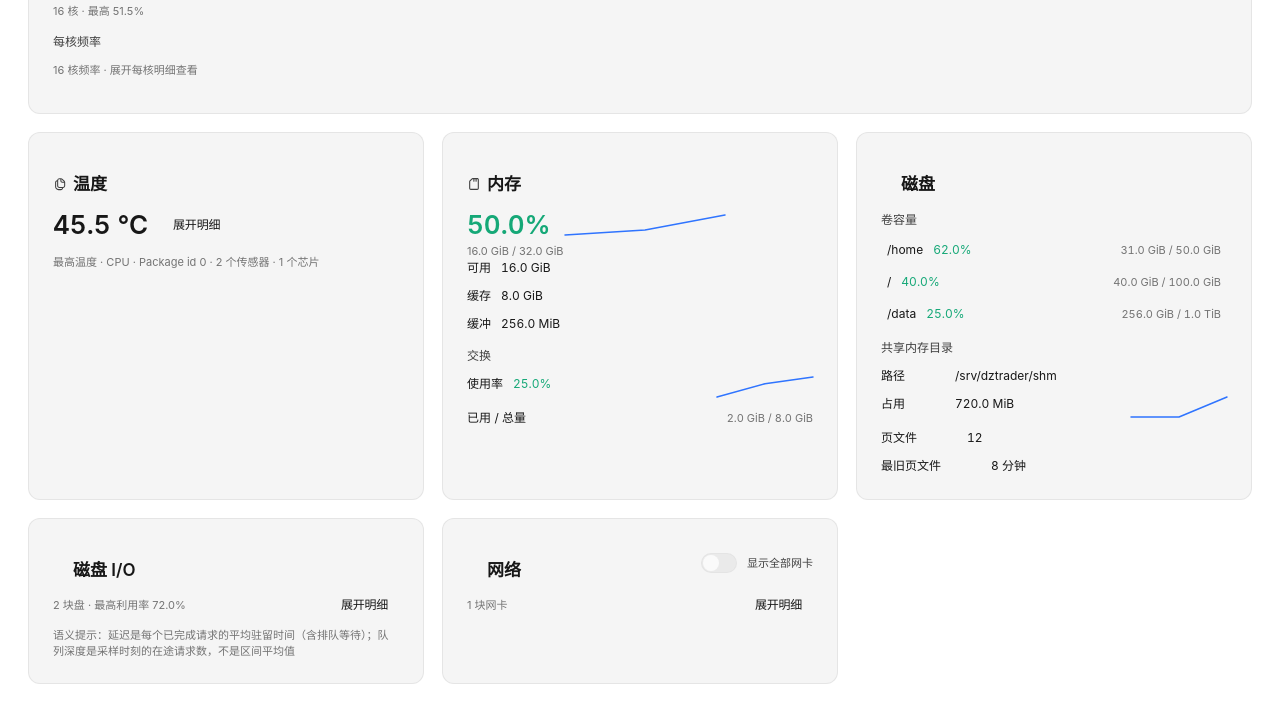
Test: MonitorView 跳转历史（#127：点击 sparkline / 数值预选指标） › 点击 sparkline 同样跳转历史并预选（交换使用率）
This screenshot has width=1280, height=720.
(page scrolled)
Click the button with test id "monitor-sparkline-swap" at [765, 387], box [717,375,813,399]
(page scrolled)
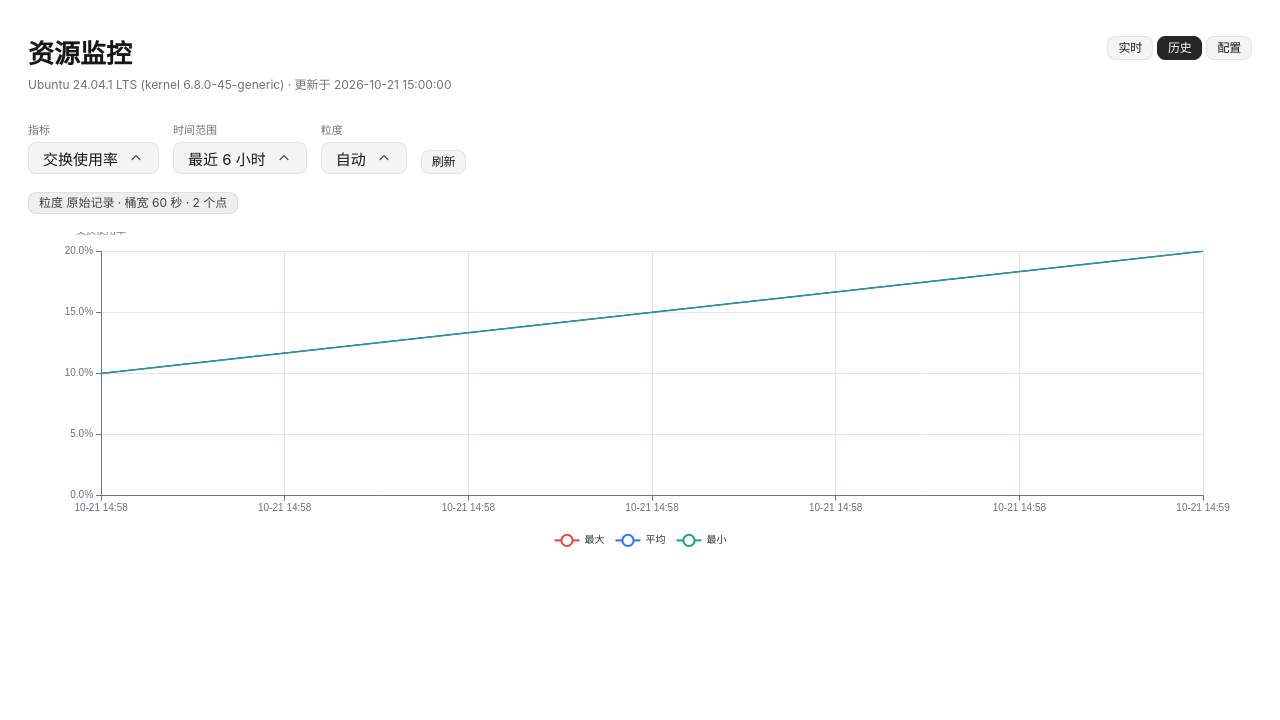
expect the element with test id "sysmon-history" is shown: met, box [28,122,1252,552]
